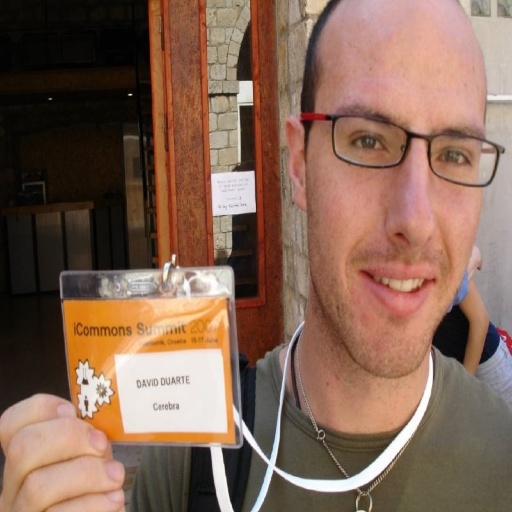hand: (0, 418, 133, 504), (470, 241, 484, 273)
